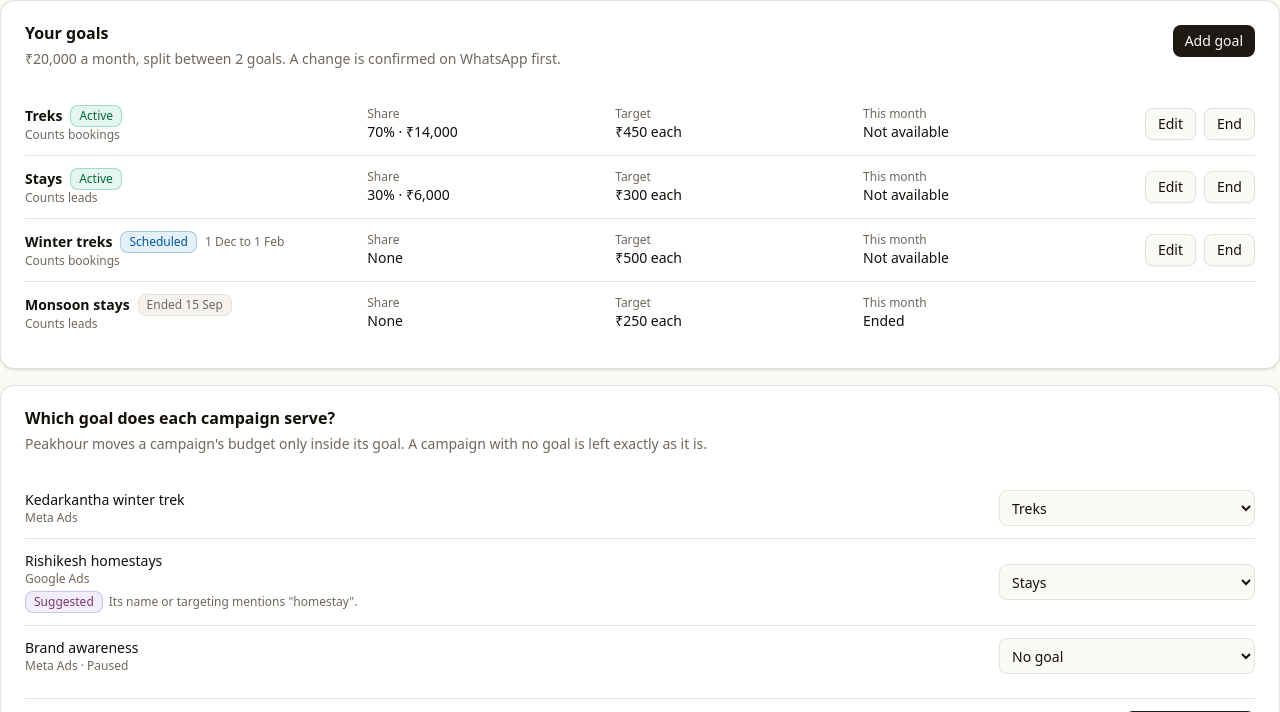
Test: the price comes before the button turns on › the quote for growth.goal_parse is shown in Peaks, with nothing sent
Step 1. Click the button "Add goal" → (1214, 41), box [1173,25,1255,57]
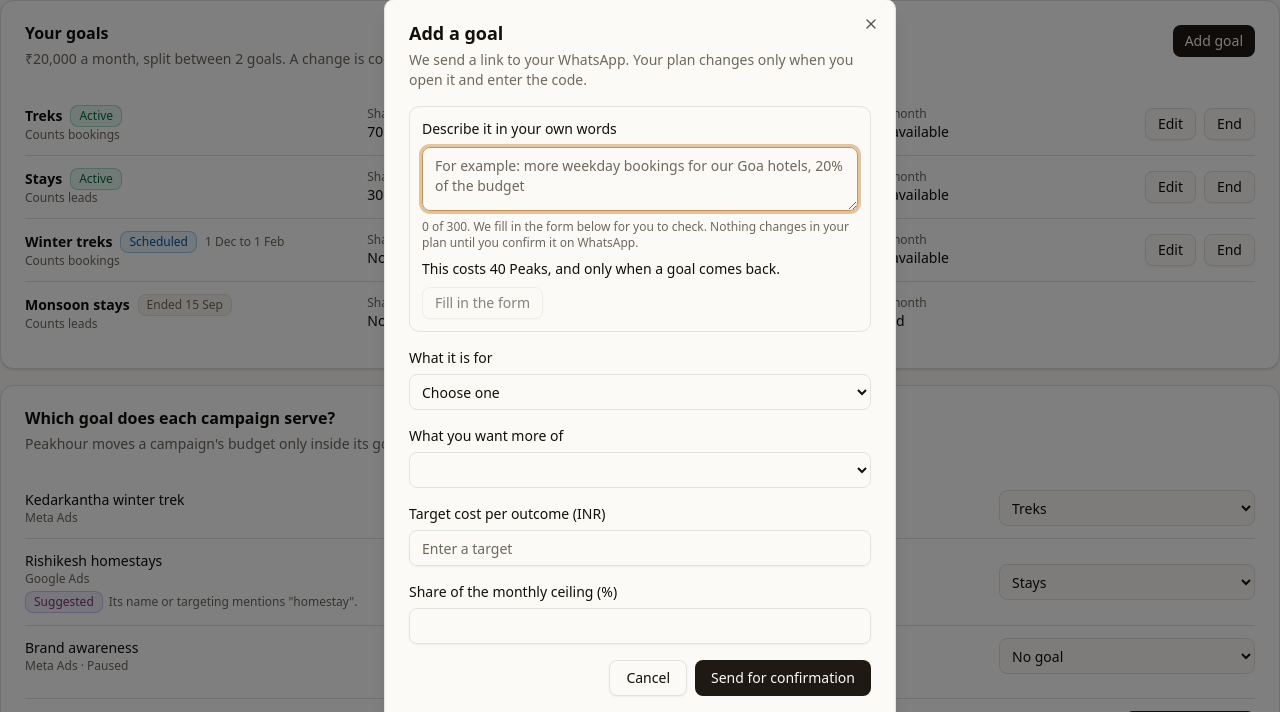
Expected: the text "This costs 40 Peaks, and only when a goal comes back." is shown, [422,259,780,278]
